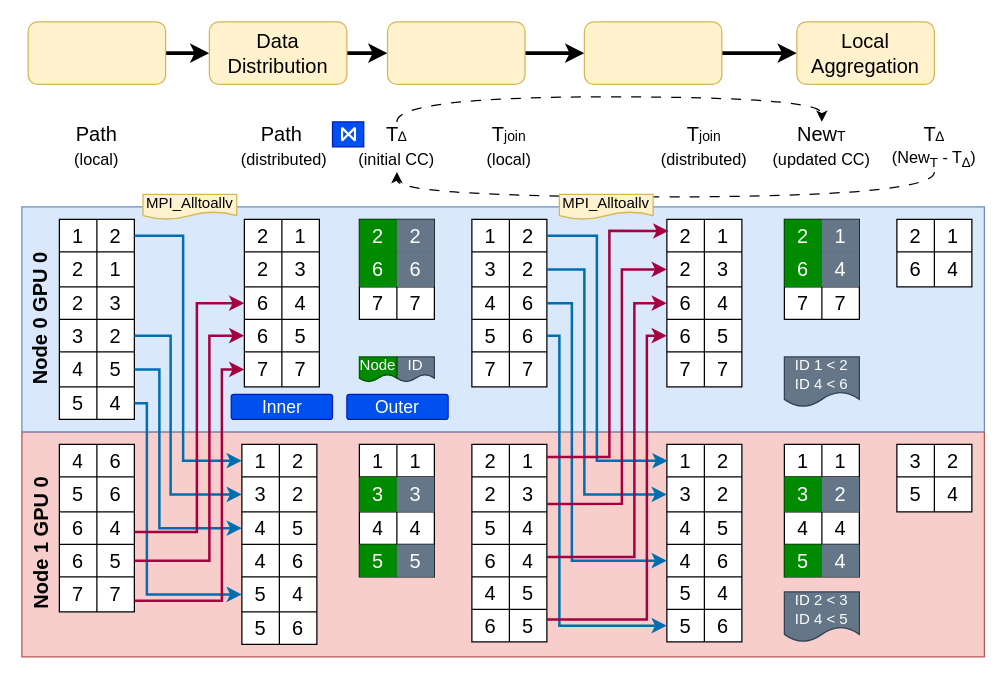
This 1006x679 diagram has some shape labels left out. Here are the shapes that lost their labels. From the top down, the box of each, then its label:
(27, 21, 166, 84): Balanced File Read
(386, 21, 525, 84): Local Join
(583, 21, 722, 84): Join Result Distribution
